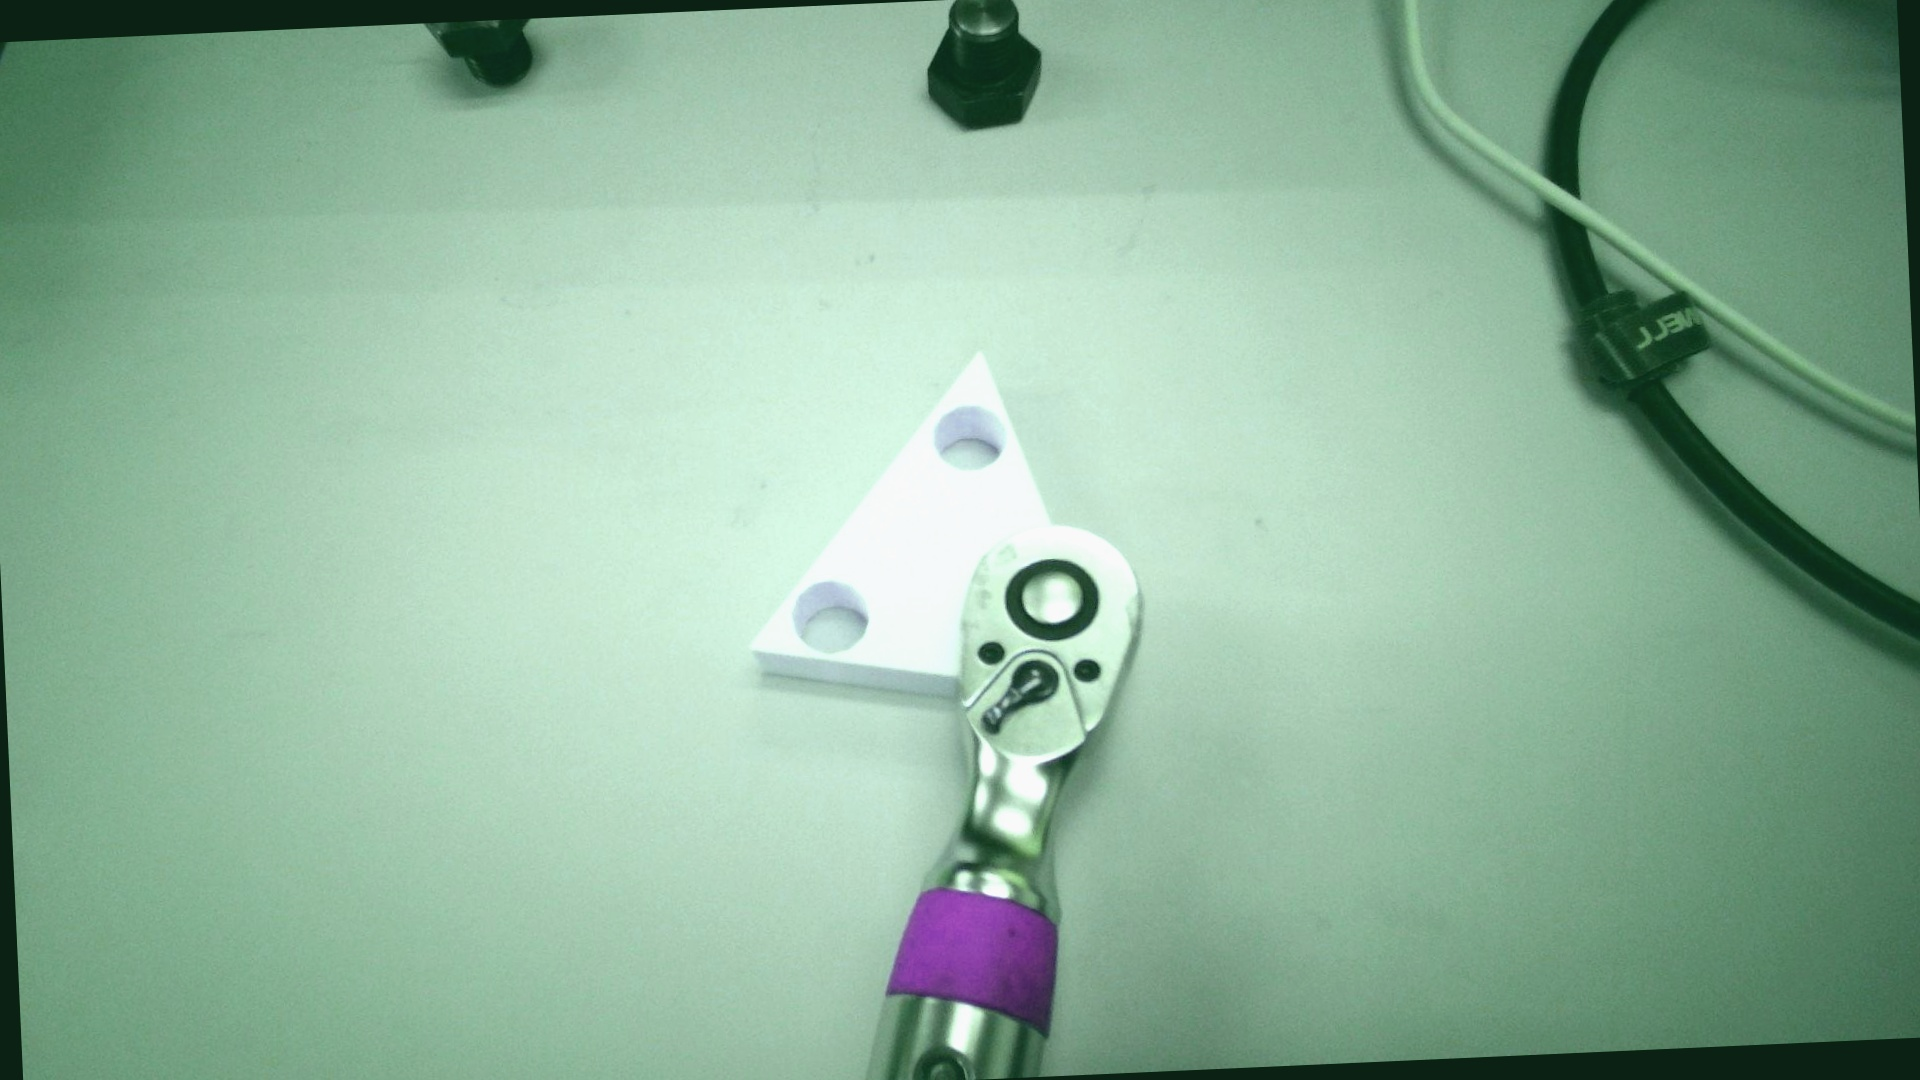hole: (790, 579, 872, 655), (930, 402, 1009, 472)
obj: (736, 347, 1060, 707)
wrench: (1002, 556, 1102, 645)
